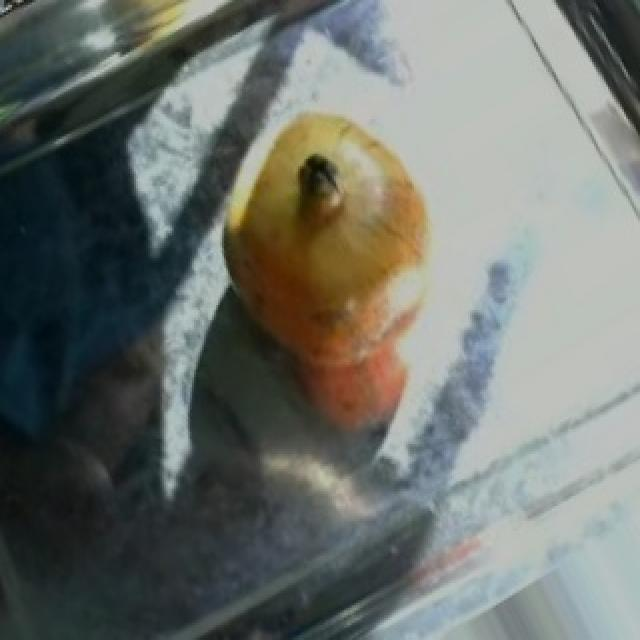fruit: (202, 79, 464, 377)
